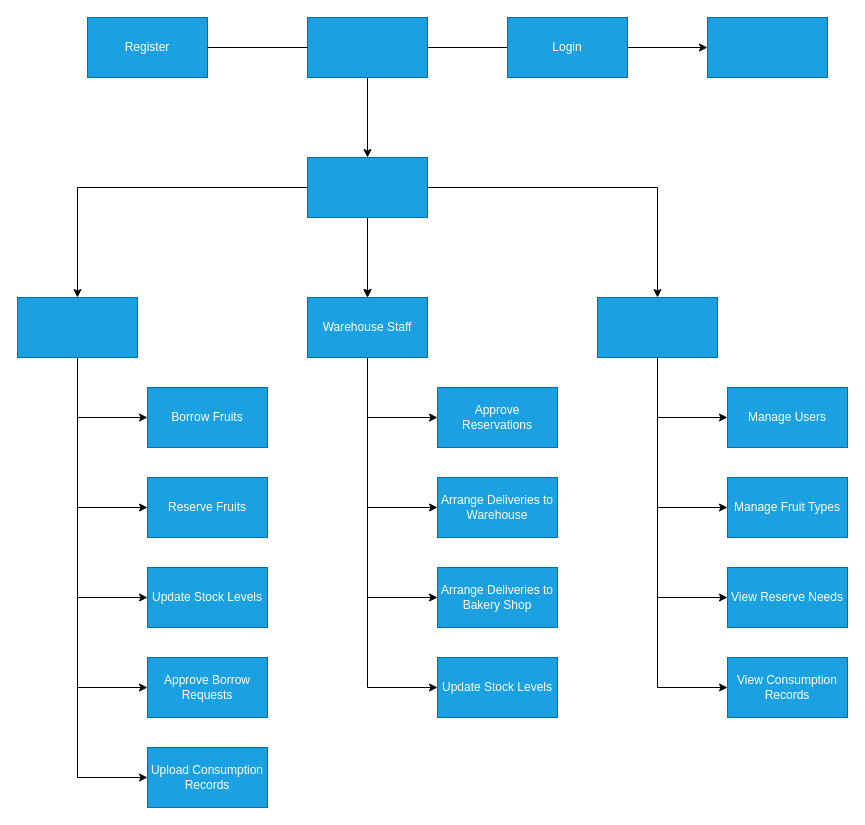
The diagram is 865 pixels wide and 825 high, and some of its shapes have lost their labels. The centre of each missing label's shape, as x and y in pixels:
Bakery Shop Staff: the point at 77,327
Dashboard (Role-Based): the point at 367,187
Home: the point at 367,47
Logout: the point at 767,47
Senior Management: the point at 657,327
